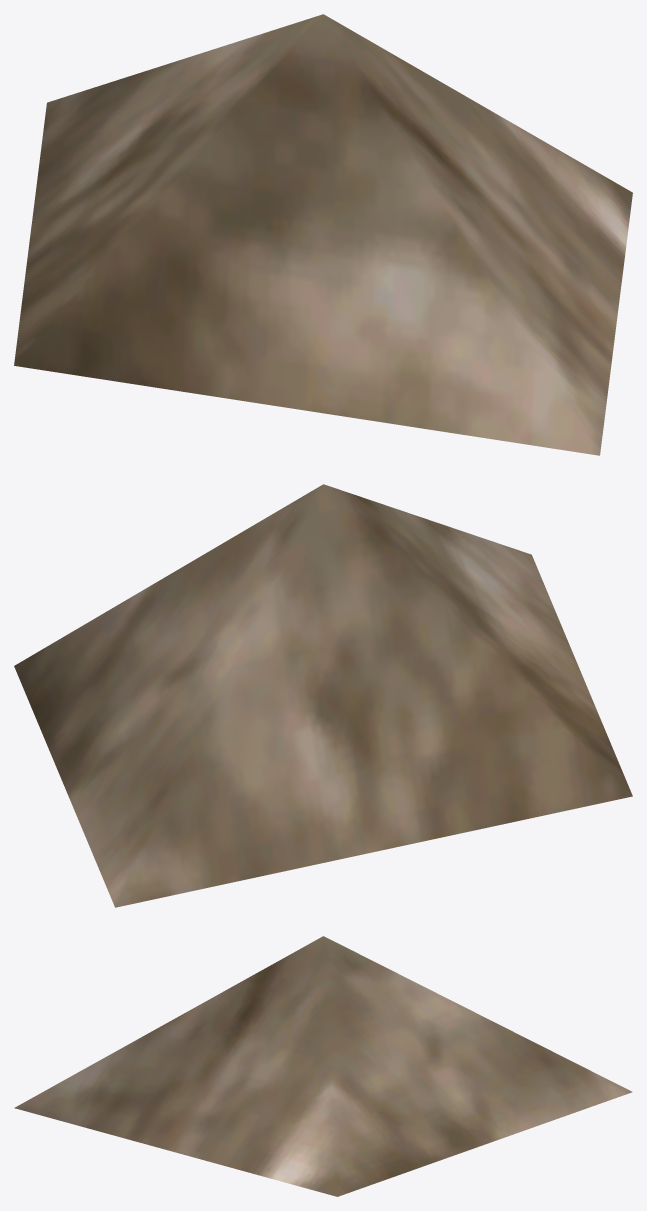
Rendered from OVERHILL_A_01_PLANE10.fbx.
3 renders of one model, top to bottom at view 1: azimuth 30°, elevation 25°; view 2: azimuth 150°, elevation 25°; view 3: azimuth 270°, elevation 25°, orthographic. The views are drawn at different scales.
Visible parts, largest first — view 1: OVERHILL_A_01_PLANE10; view 2: OVERHILL_A_01_PLANE10; view 3: OVERHILL_A_01_PLANE10.
Boxes of the visible parts, box(x1,y1,x2,y2) form: OVERHILL_A_01_PLANE10: box(14, 14, 632, 455); OVERHILL_A_01_PLANE10: box(14, 484, 632, 907); OVERHILL_A_01_PLANE10: box(14, 936, 632, 1196).
Size of the model in its own units: 1177 by 465 by 1589.
Materials: 1 (1 with a texture image).
